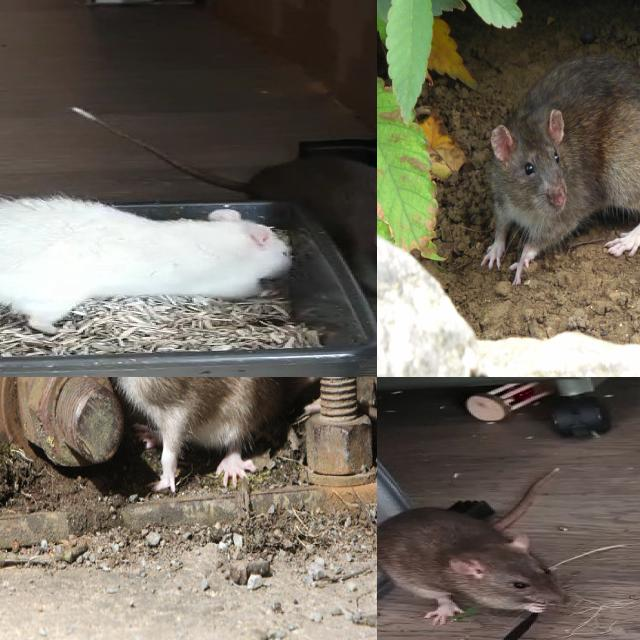rat: (0, 196, 293, 324), (481, 52, 640, 272), (37, 377, 285, 490), (377, 505, 573, 625), (252, 156, 377, 311)
